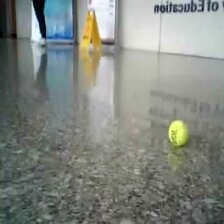tennis: (168, 119, 189, 147)
